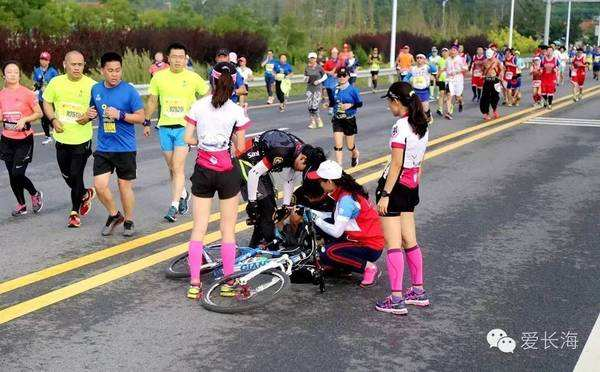10+: (1, 24, 600, 324)
down: (289, 178, 332, 238)
